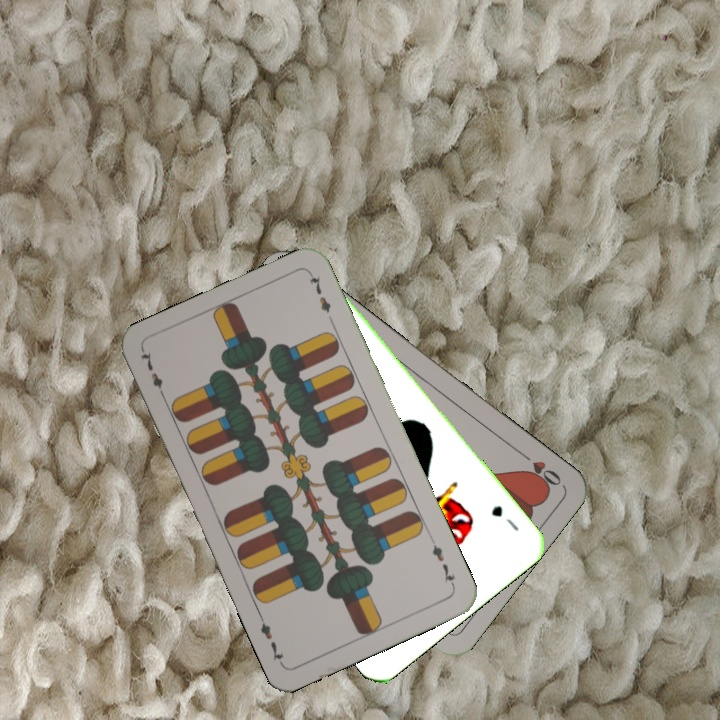E7: (136, 347, 169, 403), (426, 534, 458, 590)
GU: (487, 501, 522, 534)
HO: (515, 446, 564, 491)
